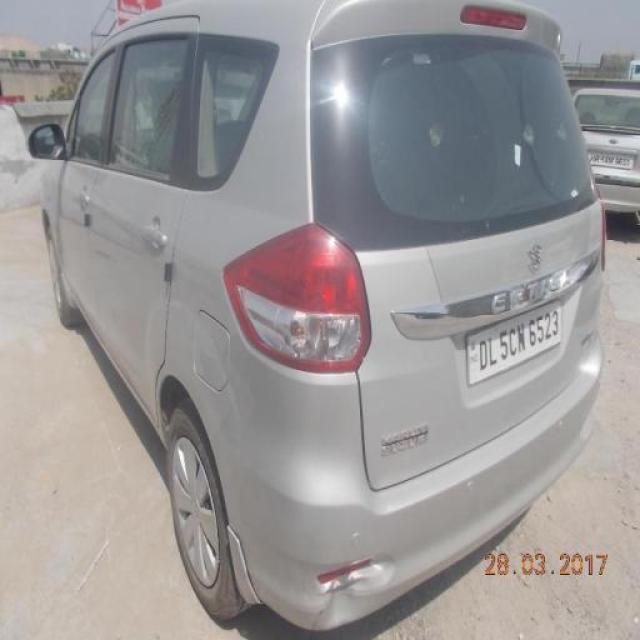dent: (309, 581, 364, 634)
